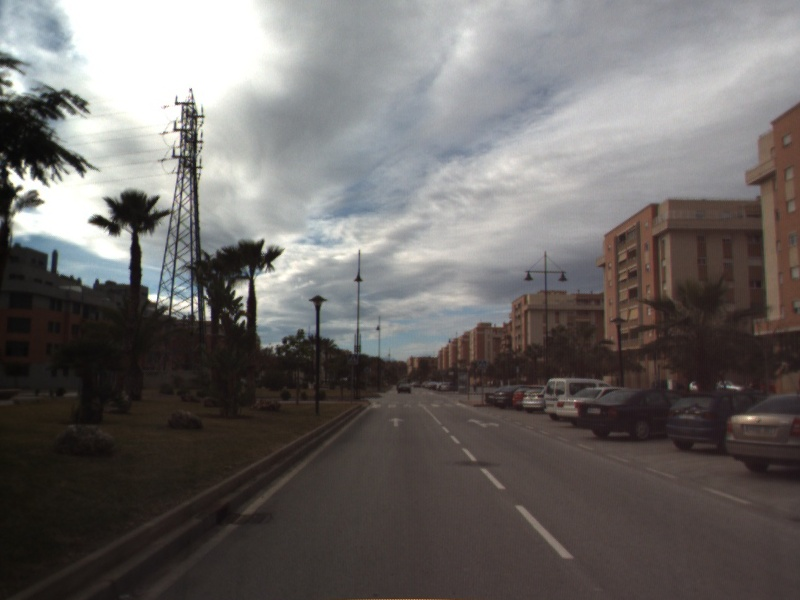STRAIGHT: (386, 415, 406, 428)
STRAIGHT_RIGHT: (466, 416, 501, 430)
